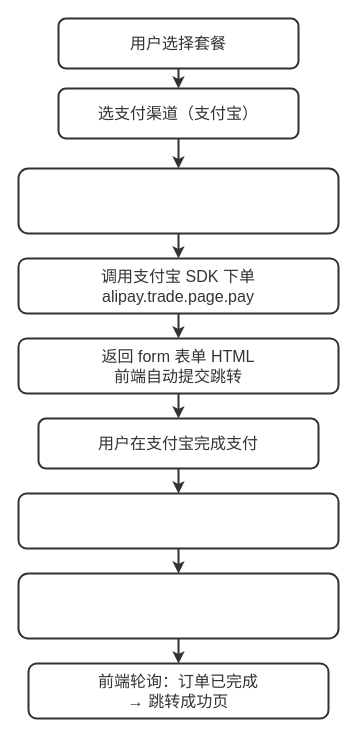
This 356x736 diagram has some shape labels left out. The shapes that lost their labels are listed below. From the top down, each one's centre as x and y in pixels, then its label:
[178,200]: 后端：构建订单号 po_recharge_info 状态 = 待支付
[178,520]: 支付宝 POST 回调 /notify验签 → 比对金额
[178,605]: 幂等更新订单 → 已支付账户入账（赠送积分同步）写充值记录
